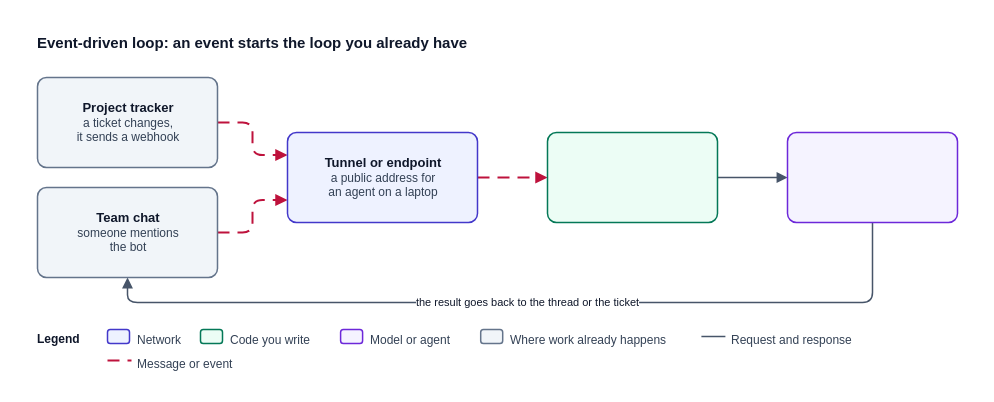
Image size: 994x402. Some labels were removed from this diagram. Here are the shapes that lost their labels. From the top down, the centre of each, then its label:
At point (632, 177): "Event handler turns the event into a run".
At point (872, 177): "Verification loop agent + grader, not rebuilt".
